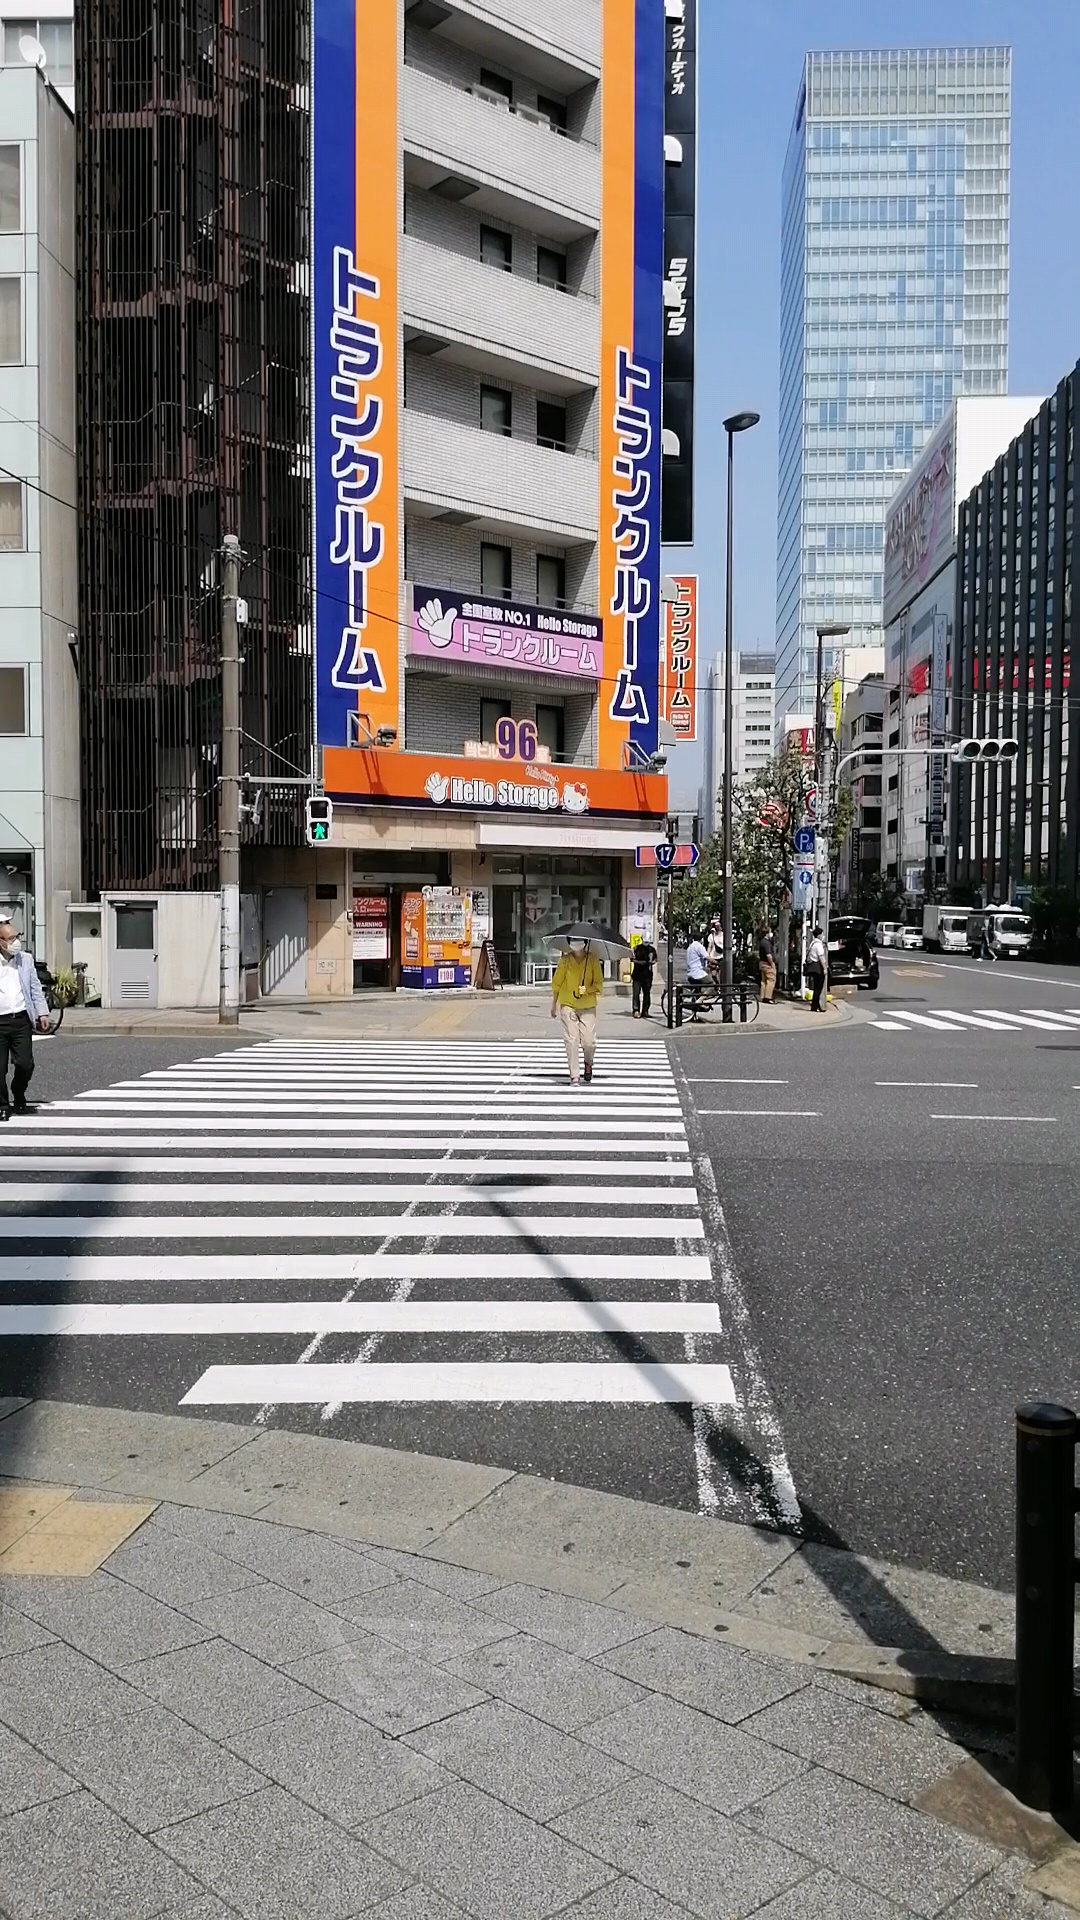green: (303, 795, 332, 843)
